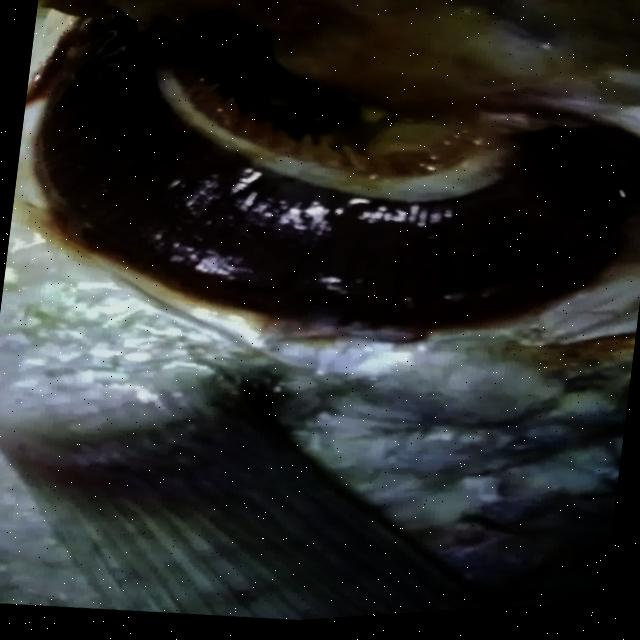Non-Fresh: (4, 0, 640, 400)
